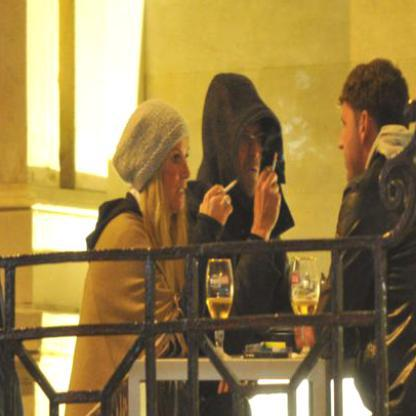cigarette: (222, 179, 236, 194), (272, 150, 279, 174)
person: (61, 95, 201, 415), (186, 68, 296, 339), (327, 52, 415, 355)
